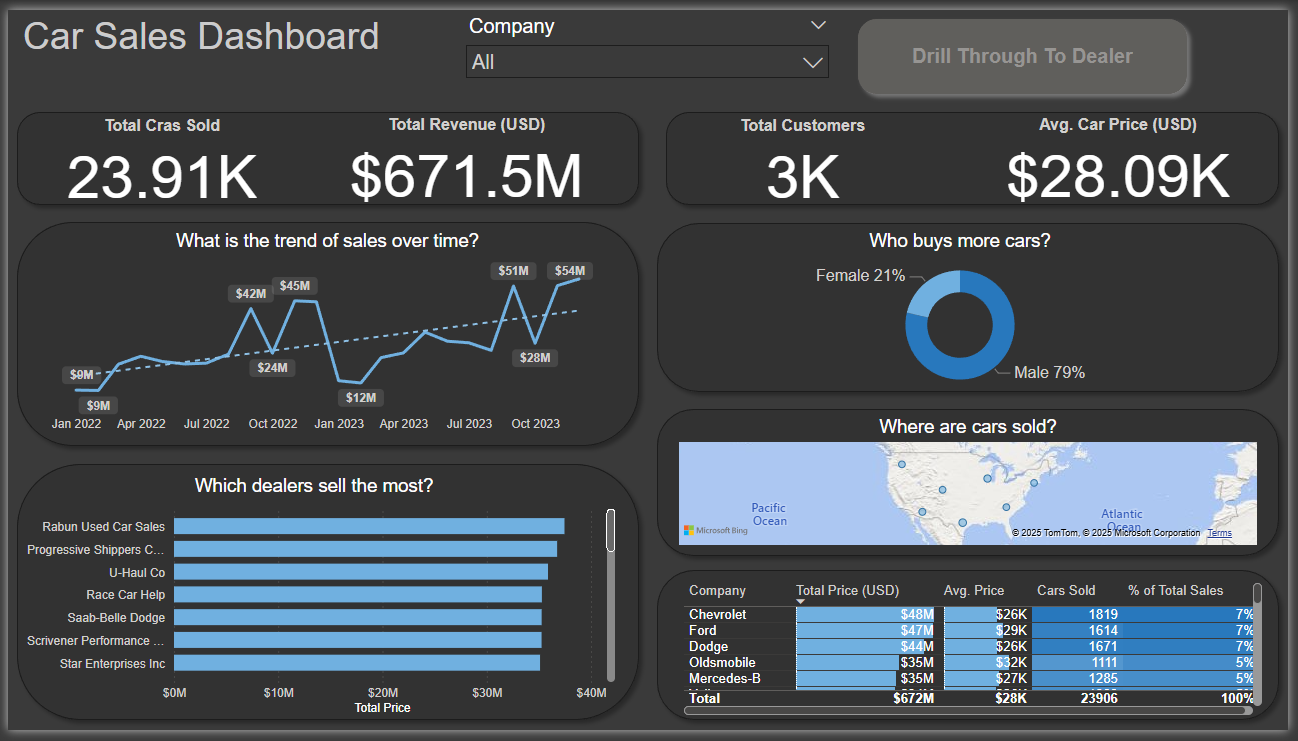

The dashboard page shown, as its layout file describes it:
{"tool":"powerbi","page":{"name":"Dashboard","canvas":[1280,720],"ordinal":0},"visuals":[{"type":"shape","box":[0,92.5,640,111.3],"z":0,"group":"g1"},{"type":"group","id":"g1","title":"Background","box":[0,92.5,1280,627.5],"z":0},{"type":"textbox","box":[9.7,0,403.6,73.9],"z":1000},{"type":"shape","box":[649.1,92.5,630.9,111.3],"z":1000,"group":"g1"},{"type":"slicer","fields":{"Values":["vw_sales_export_20251022_164507.company"]},"box":[448.4,0,382.2,81.7],"z":2000},{"type":"shape","box":[0,202.9,640,241.7],"z":2000,"group":"g1"},{"type":"cardVisual","fields":{"Data":["CountNonNull(vw_sales_export_20251022_164507.car_id)"]},"box":[9.8,90.7,288,111.1],"z":3000},{"type":"shape","box":[0,444.6,640,273.4],"z":3000,"group":"g1"},{"type":"cardVisual","fields":{"Data":["Sum(vw_sales_export_20251022_164507.price)"]},"box":[320,89.8,277.3,112],"z":4000},{"type":"shape","box":[640,202.9,640,164.8],"z":4000,"group":"g1"},{"type":"cardVisual","fields":{"Data":["Count(vw_sales_export_20251022_164507.customer_name)"]},"box":[656.9,90.7,275.6,112],"z":5000},{"type":"shape","box":[640,389.4,640,164.8],"z":5000,"group":"g1"},{"type":"lineChart","title":"What is the trend of sales over time?","fields":{"Y":["Sum(vw_sales_export_20251022_164507.price)"],"Category":["vw_sales_export_20251022_164507.month_label.Variation.Date Hierarchy.Year","vw_sales_export_20251022_164507.month_label.Variation.Date Hierarchy.Quarter","vw_sales_export_20251022_164507.month_label.Variation.Date Hierarchy.Month","vw_sales_export_20251022_164507.month_label.Variation.Date Hierarchy.Day"]},"box":[38.2,219.6,562.7,210.7],"z":6000},{"type":"shape","box":[640,550.1,640,168],"z":6000,"group":"g1"},{"type":"barChart","title":"Which dealers sell the most?","fields":{"Y":["Sum(vw_sales_export_20251022_164507.price)"],"Category":["vw_sales_export_20251022_164507.dealer_name"]},"box":[0,474.7,612.4,245.3],"z":7000},{"type":"tableEx","fields":{"Values":["vw_sales_export_20251022_164507.company","Sum(vw_sales_export_20251022_164507.price)","Avg(vw_sales_export_20251022_164507.price)","kpi_summary_20251022_164507.Total Cars Sold","kpi_summary_20251022_164507.% of Total Sales"]},"box":[670.2,568,588.4,142.2],"z":8000},{"type":"cardVisual","fields":{"Data":["Avg(vw_sales_export_20251022_164507.price)"]},"box":[952,89.8,315.6,118.2],"z":9000},{"type":"map","title":"Where are cars sold?","fields":{"Category":["vw_sales_export_20251022_164507.dealer_region"],"Size":["Sum(vw_sales_export_20251022_164507.price)"]},"box":[665.8,368.9,588.4,172.4],"z":10000},{"type":"donutChart","title":"Who buys more cars?","fields":{"Category":["vw_sales_export_20251022_164507.gender"],"Y":["CountNonNull(vw_sales_export_20251022_164507.car_id)"]},"box":[657.8,219.6,588.4,149.3],"z":11000},{"type":"actionButton","box":[840.9,0,347.6,93.3],"z":12000}]}

Visuals, with their boxes in screenshot pixels (x1, y1, x2, y2), scaled from the page's 1280x720 canvas onto the 1298x741 screenshot:
shape: 0 95 649 210
"Background" group: 0 95 1297 740
textbox: 10 0 419 76
shape: 658 95 1297 210
slicer - vw_sales_export_20251022_164507.company: 455 0 842 84
shape: 0 209 649 458
cardVisual - CountNonNull(vw_sales_export_20251022_164507.car_id): 10 93 302 208
shape: 0 458 649 739
cardVisual - Sum(vw_sales_export_20251022_164507.price): 324 92 606 208
shape: 649 209 1297 378
cardVisual - Count(vw_sales_export_20251022_164507.customer_name): 666 93 946 209
shape: 649 401 1297 570
"What is the trend of sales over time?" lineChart: 39 226 609 443
shape: 649 566 1297 739
"Which dealers sell the most?" barChart: 0 489 621 740
tableEx - vw_sales_export_20251022_164507.company x Sum(vw_sales_export_20251022_164507.price): 680 585 1276 731
cardVisual - Avg(vw_sales_export_20251022_164507.price): 965 92 1285 214
"Where are cars sold?" map: 675 380 1272 557
"Who buys more cars?" donutChart: 667 226 1264 380
actionButton: 853 0 1205 96
